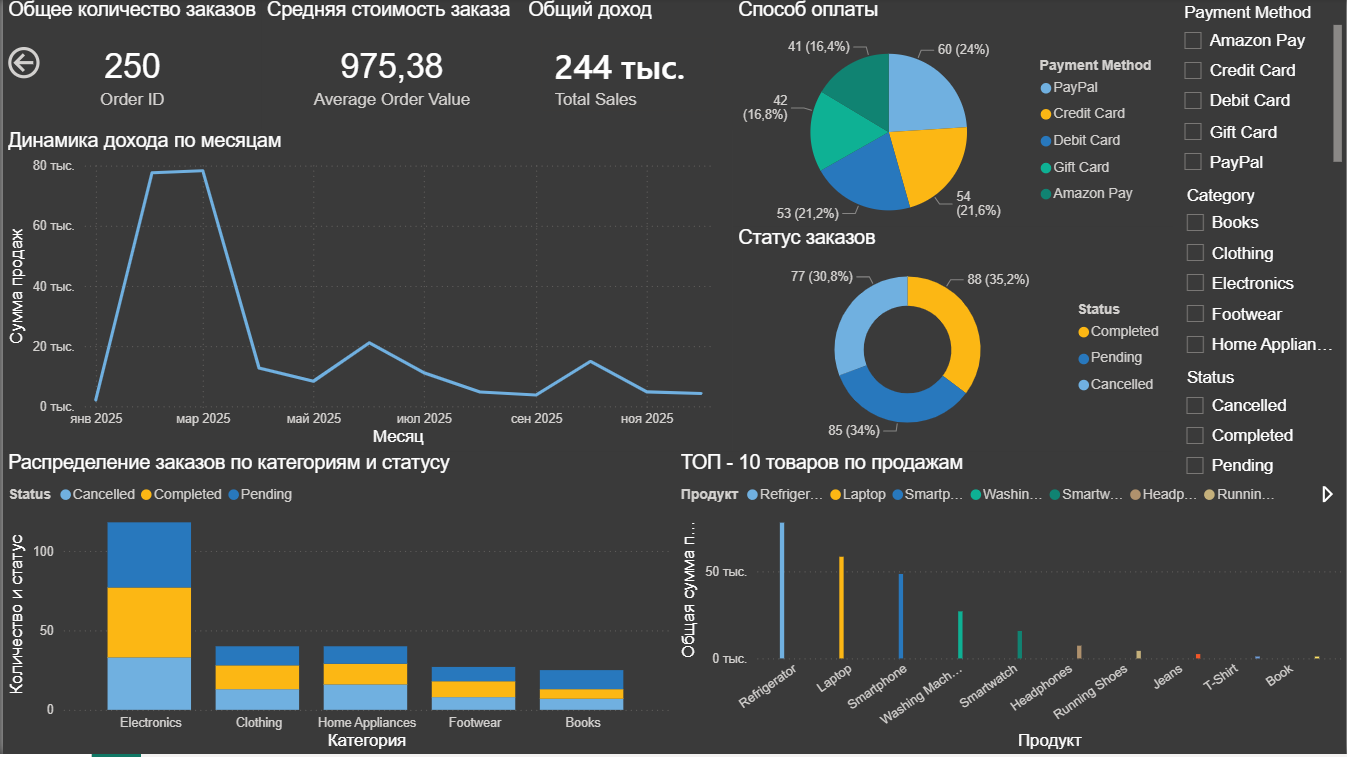

What the dashboard file says about the page in this screenshot:
{"tool":"powerbi","page":{"name":"Страница 1","canvas":[1280,720],"ordinal":0},"visuals":[{"type":"columnChart","title":"Распределение заказов по категориям и статусу","fields":{"Category":["Sheet1.Category"],"Y":["CountNonNull(Sheet1.Status)"],"Series":["Sheet1.Status"]},"box":[0,431.7,640,288.3],"z":1},{"type":"lineChart","title":"Динамика дохода по месяцам","fields":{"Y":["Sum(Sheet1.Total Sales)"],"Category":["Sheet1 (2).Month.Изменение.Иерархия дат.Год","Sheet1 (2).Month.Изменение.Иерархия дат.Квартал","Sheet1 (2).Month.Изменение.Иерархия дат.Месяц","Sheet1 (2).Month.Изменение.Иерархия дат.День"]},"box":[0,125,695,306.7],"z":2},{"type":"clusteredColumnChart","title":"ТОП - 10 товаров по продажам","fields":{"Category":["Sheet1.Product"],"Y":["Sum(Sheet1.Total Sales)"],"Series":["Sheet1.Product"]},"box":[640,431.7,640,288.3],"z":3},{"type":"cardVisual","title":"Общий доход","fields":{"Data":["Sum(Sheet1.Total Sales)"]},"box":[495,0,200,125],"z":4},{"type":"card","title":"Общее количество заказов","fields":{"Values":["CountNonNull(Sheet1.Order ID)"]},"box":[0,0,246.7,125],"z":5},{"type":"card","title":"Средняя стоимость заказа","fields":{"Values":["Sheet1.Average Order Value"]},"box":[246.7,0,248.3,125],"z":6},{"type":"pieChart","title":"Способ оплаты","fields":{"Category":["Sheet1.Payment Method"],"Y":["CountNonNull(Sheet1.Order ID)"]},"box":[695,0,420,235],"z":7},{"type":"donutChart","title":"Статус заказов","fields":{"Category":["Sheet1.Status"],"Y":["CountNonNull(Sheet1.Order ID)"]},"box":[694.9,218.4,419.8,213.5],"z":8},{"type":"slicer","fields":{"Values":["Sheet1.Category"]},"box":[1114.8,173.7,165.3,213.5],"z":9},{"type":"slicer","fields":{"Values":["Sheet1.Payment Method"]},"box":[1111.7,0,168.3,173.3],"z":10},{"type":"slicer","fields":{"Values":["Sheet1.Status"]},"box":[1114.8,347.5,165.3,117],"z":11},{"type":"actionButton","box":[0,42.2,100.1,39.8],"z":12}]}

Visuals, with their boxes on the page's 1280x720 design canvas (x1, y1, x2, y2). These are canvas units, not pixel positions in the 1347x757 screenshot, which may show the page scaled, cropped or inside an application window:
"Распределение заказов по категориям и статусу" columnChart: l=0, t=432, r=640, b=720
"Динамика дохода по месяцам" lineChart: l=0, t=125, r=695, b=432
"ТОП - 10 товаров по продажам" clusteredColumnChart: l=640, t=432, r=1280, b=720
"Общий доход" cardVisual: l=495, t=0, r=695, b=125
"Общее количество заказов" card: l=0, t=0, r=247, b=125
"Средняя стоимость заказа" card: l=247, t=0, r=495, b=125
"Способ оплаты" pieChart: l=695, t=0, r=1115, b=235
"Статус заказов" donutChart: l=695, t=218, r=1115, b=432
slicer - Sheet1.Category: l=1115, t=174, r=1280, b=387
slicer - Sheet1.Payment Method: l=1112, t=0, r=1280, b=173
slicer - Sheet1.Status: l=1115, t=348, r=1280, b=464
actionButton: l=0, t=42, r=100, b=82
